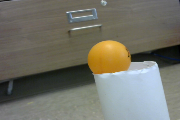PingPongBall: (88, 40, 131, 74)
